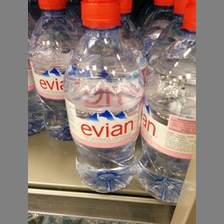water: (63, 1, 143, 195), (137, 1, 195, 203), (29, 1, 85, 141)
